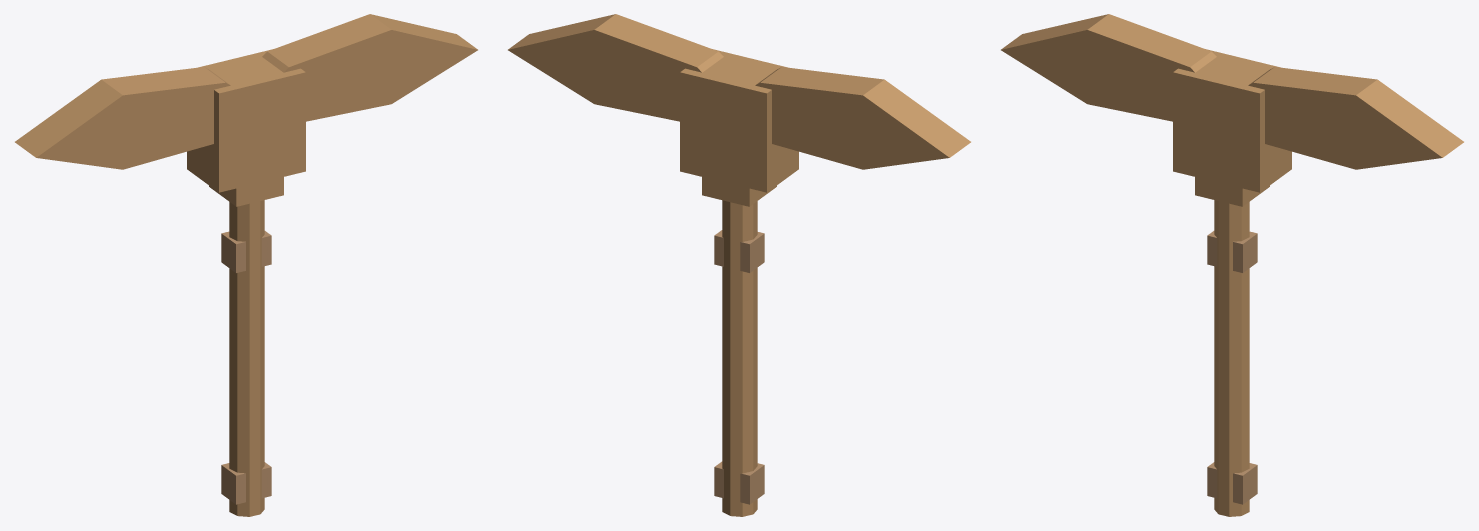
The model's file is woodenPickaxe.glb.
The picture shows the model from 3 angles, left to right: view 1: azimuth 30°, elevation 25°; view 2: azimuth 150°, elevation 25°; view 3: azimuth 330°, elevation 25°; orthographic projection.
Visible parts, largest first — view 1: PickaxeHead, PickaxeCollar, Handle, GripWrapHigh, GripWrapLow, ToolHeadSocket; view 2: PickaxeHead, PickaxeCollar, Handle, GripWrapLow, GripWrapHigh, ToolHeadSocket; view 3: PickaxeHead, PickaxeCollar, Handle, GripWrapHigh, GripWrapLow, ToolHeadSocket.
Boxes of the visible parts, x1=… form: PickaxeHead: x1=15, y1=14, x2=477, y2=169; PickaxeCollar: x1=187, y1=49, x2=305, y2=192; Handle: x1=229, y1=200, x2=264, y2=516; GripWrapHigh: x1=221, y1=231, x2=271, y2=272; GripWrapLow: x1=221, y1=462, x2=271, y2=504; ToolHeadSocket: x1=209, y1=177, x2=283, y2=206; PickaxeHead: x1=508, y1=14, x2=970, y2=169; PickaxeCollar: x1=680, y1=49, x2=798, y2=192; Handle: x1=722, y1=200, x2=757, y2=516; GripWrapLow: x1=714, y1=461, x2=764, y2=504; GripWrapHigh: x1=714, y1=230, x2=764, y2=272; ToolHeadSocket: x1=702, y1=177, x2=776, y2=206; PickaxeHead: x1=1001, y1=14, x2=1463, y2=169; PickaxeCollar: x1=1173, y1=49, x2=1291, y2=192; Handle: x1=1214, y1=200, x2=1249, y2=516; GripWrapHigh: x1=1207, y1=231, x2=1257, y2=272; GripWrapLow: x1=1207, y1=462, x2=1257, y2=504; ToolHeadSocket: x1=1195, y1=177, x2=1269, y2=206.
Size of the model in its own units: 1.12 by 1.1 by 0.14.
